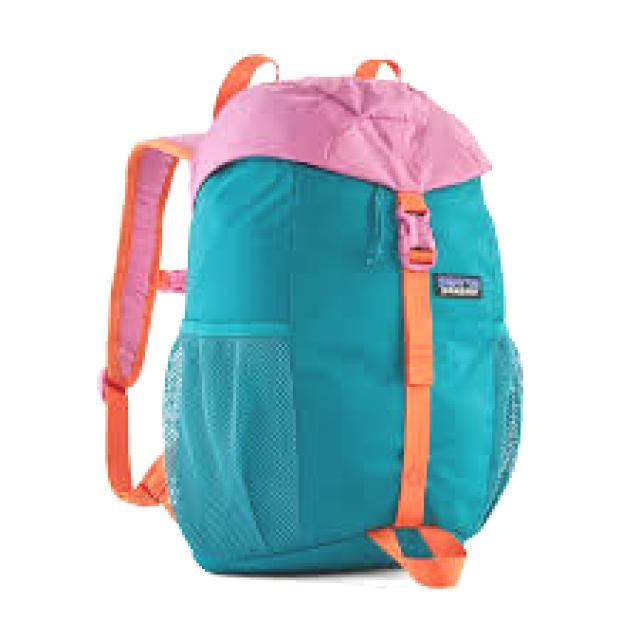backpack: (98, 52, 524, 587)
